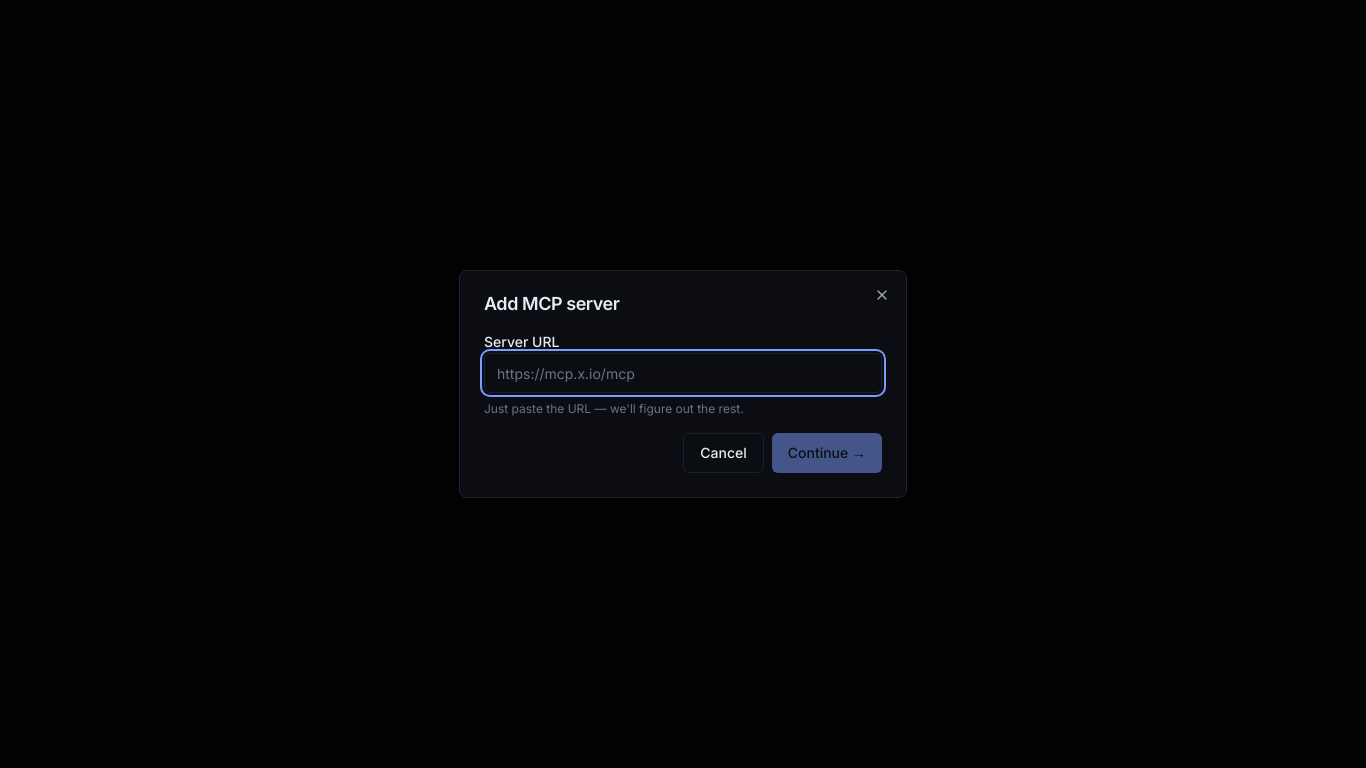
it: AddMcpWizard — apikey path › shows error and stays on URL step when probe returns manual
The image size is (1366, 768).
Type "https://broken.example/mcp" into the field with placeholder "https://mcp.x.io/mcp" at (683, 373), box [484,353,882,393]
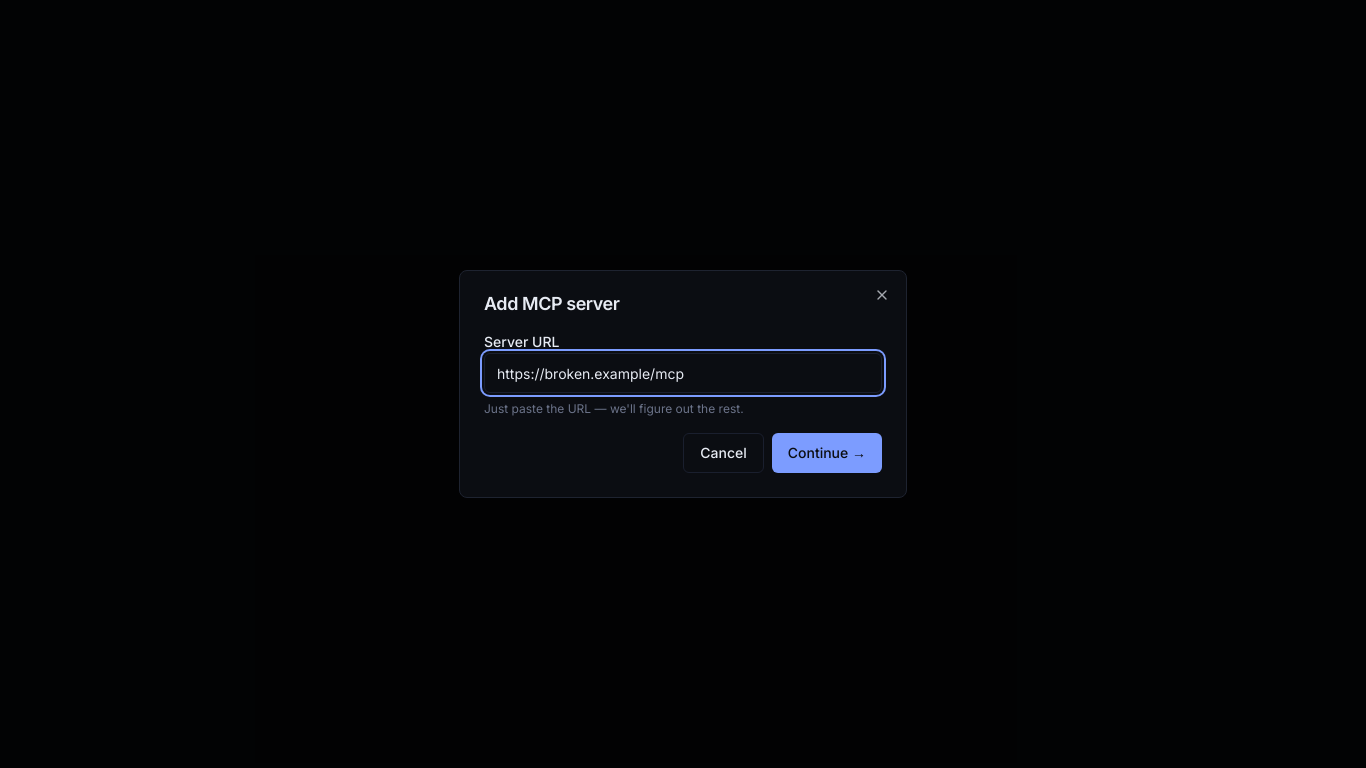
Click the button "Continue →" at (827, 453), box [772,433,882,473]
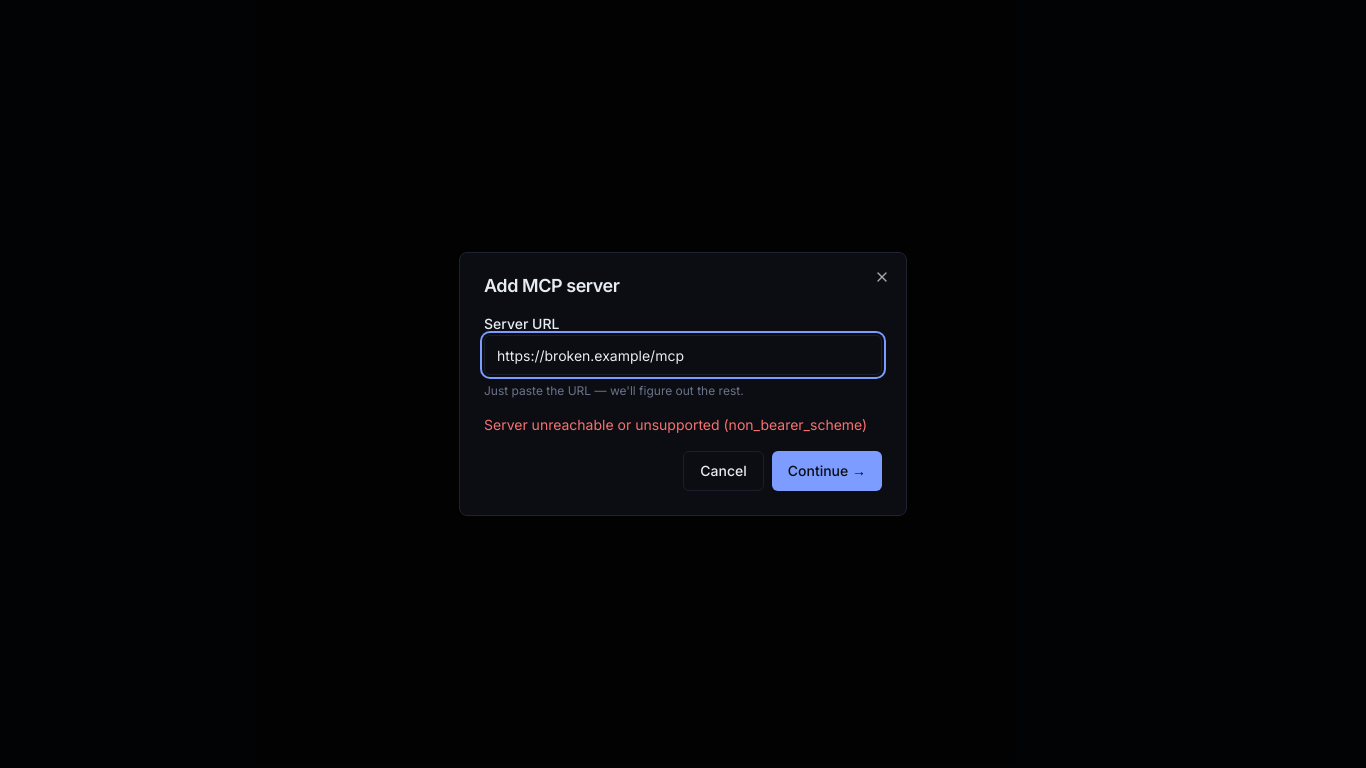
expect the message "Server unreachable or unsupported (non_bearer_scheme)" is shown: met, box [484,415,882,435]
expect the message reads "Server unreachable or unsupported (non_bearer_scheme)": met, box [484,416,867,433]
